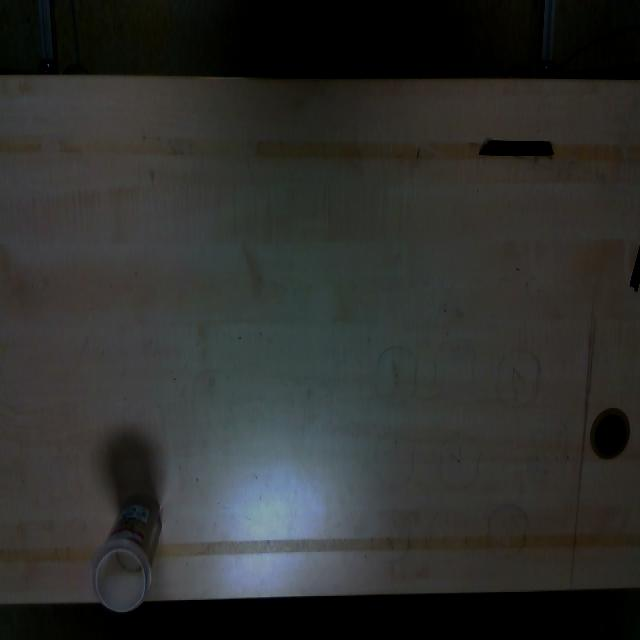cups: (93, 494, 162, 614)
